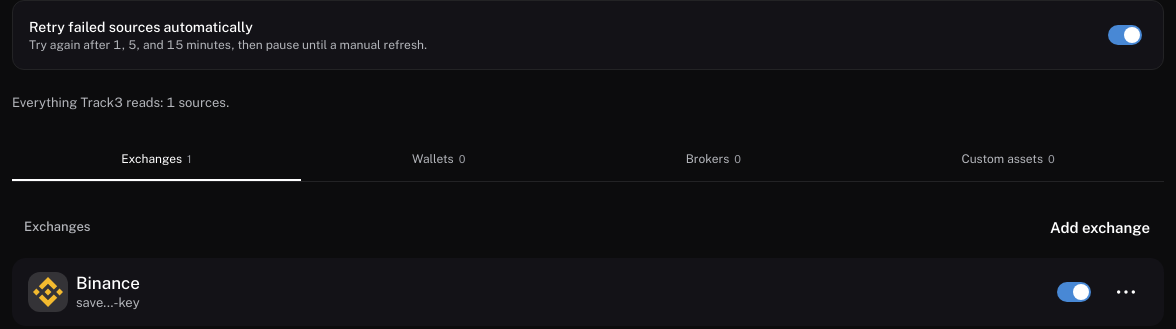
Test case: Configuration base currency initialization › keeps custom holdings reachable on the iPhone sources page
This screenshot has width=1176, height=329.
Click the tab "Custom assets 0". click: coordinates (1008, 159)
box: [852,137,1164,181]
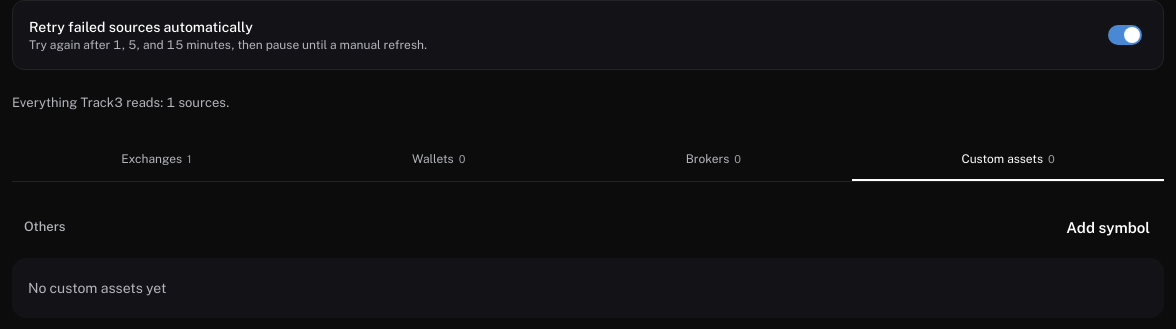
Expected: the button "Add symbol" is shown, [1052,206,1164,250]
